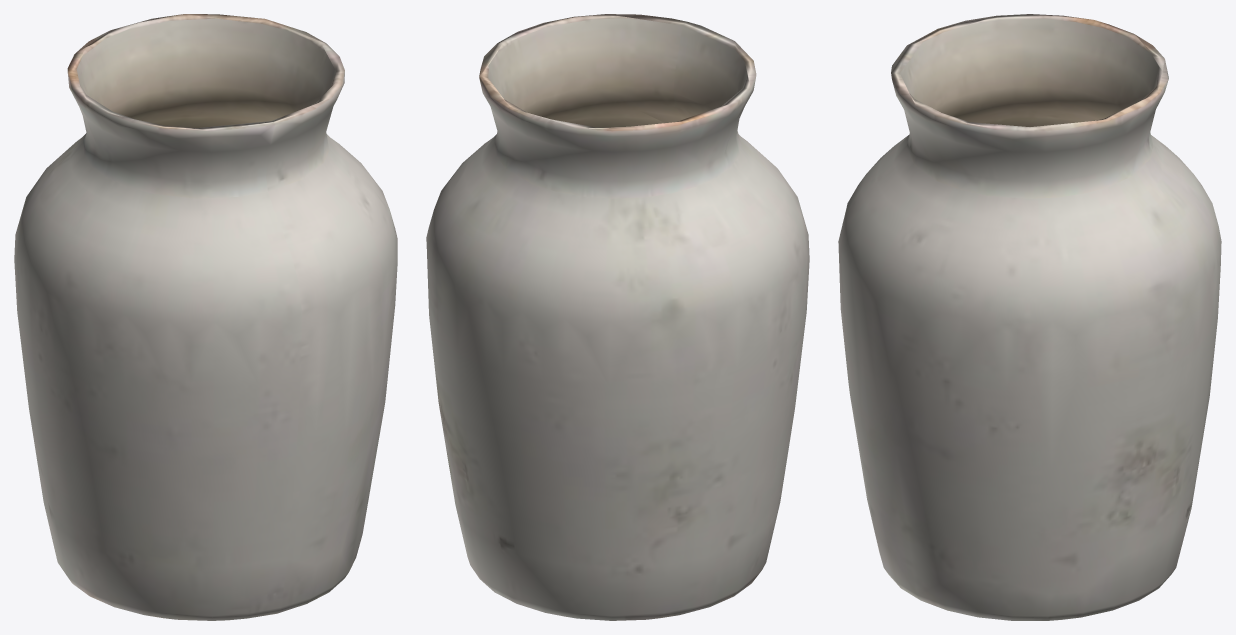
File: ceramic_vase_02.glb
3 renders of one model, left to right at view 1: azimuth 30°, elevation 25°; view 2: azimuth 150°, elevation 25°; view 3: azimuth 270°, elevation 25°, orthographic.
Parts seen in each view (by area): view 1: ceramic_vase_02; view 2: ceramic_vase_02; view 3: ceramic_vase_02.
Boxes of the visible parts, left/top/right/bottom form: ceramic_vase_02: left=14, top=14, right=397, bottom=620; ceramic_vase_02: left=426, top=14, right=809, bottom=620; ceramic_vase_02: left=838, top=14, right=1221, bottom=620.
Size of the model in its own units: 0.2184 by 0.3091 by 0.2176.
Materials: 1 (1 with a texture image).
